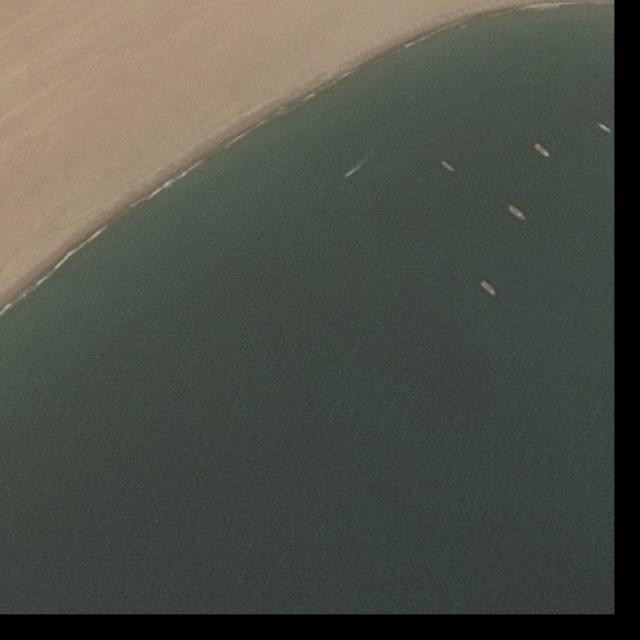ship: (479, 280, 497, 298), (509, 205, 526, 221), (534, 143, 550, 158), (442, 161, 455, 172), (599, 123, 612, 133), (346, 174, 351, 179)
